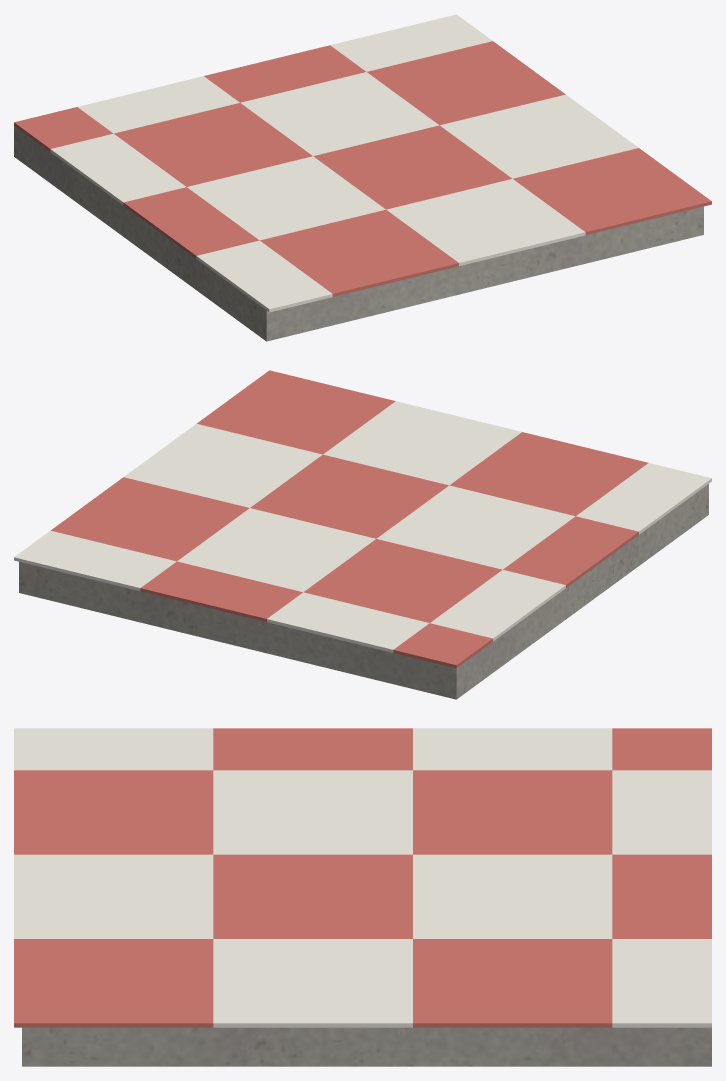
Rendered from floor_dine_e25_0_25_0.glb.
The picture shows the model from 3 angles, top to bottom: view 1: azimuth 30°, elevation 25°; view 2: azimuth 150°, elevation 25°; view 3: azimuth 270°, elevation 25°; orthographic projection. The views are drawn at different scales.
Parts seen in each view (by area): view 1: floor_dine_e25_0_25_0_tile_r, floor_dine_e25_0_25_0_tile_w, floor_dine_e25_0_25_0_concrete; view 2: floor_dine_e25_0_25_0_tile_r, floor_dine_e25_0_25_0_tile_w, floor_dine_e25_0_25_0_concrete; view 3: floor_dine_e25_0_25_0_tile_r, floor_dine_e25_0_25_0_tile_w, floor_dine_e25_0_25_0_concrete.
Part boxes in pixels (x1=…): floor_dine_e25_0_25_0_tile_r: x1=14, y1=41, x2=711, y2=296; floor_dine_e25_0_25_0_tile_w: x1=50, y1=14, x2=638, y2=312; floor_dine_e25_0_25_0_concrete: x1=14, y1=126, x2=703, y2=341; floor_dine_e25_0_25_0_tile_r: x1=51, y1=370, x2=648, y2=668; floor_dine_e25_0_25_0_tile_w: x1=14, y1=401, x2=711, y2=652; floor_dine_e25_0_25_0_concrete: x1=19, y1=484, x2=708, y2=699; floor_dine_e25_0_25_0_tile_r: x1=14, y1=728, x2=711, y2=1027; floor_dine_e25_0_25_0_tile_w: x1=14, y1=728, x2=711, y2=1027; floor_dine_e25_0_25_0_concrete: x1=22, y1=1027, x2=711, y2=1066.
Bounding box in the file's own units: 1.75 × 0.13 × 1.75.
Materials: 3 (1 with a texture image).
